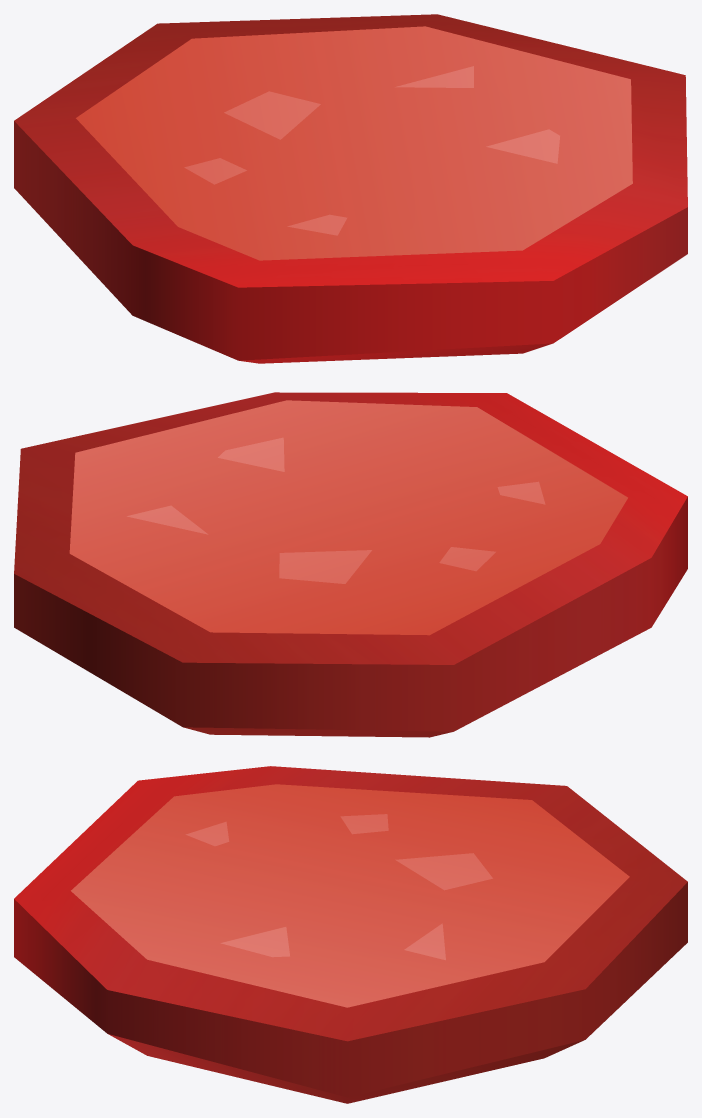
File: SausageSlice_B.glb
The picture shows the model from 3 angles, top to bottom: view 1: azimuth 30°, elevation 25°; view 2: azimuth 150°, elevation 25°; view 3: azimuth 270°, elevation 25°; orthographic projection. The views are drawn at different scales.
Visible parts, largest first — view 1: SausageSlice_B; view 2: SausageSlice_B; view 3: SausageSlice_B.
Boxes of the visible parts, <box> form: SausageSlice_B: <box>14,14,687,363</box>; SausageSlice_B: <box>14,392,687,737</box>; SausageSlice_B: <box>14,766,687,1103</box>.
Bounding box in the file's own units: 0.0835 × 0.0138 × 0.088.
Materials: 1 (1 with a texture image).
